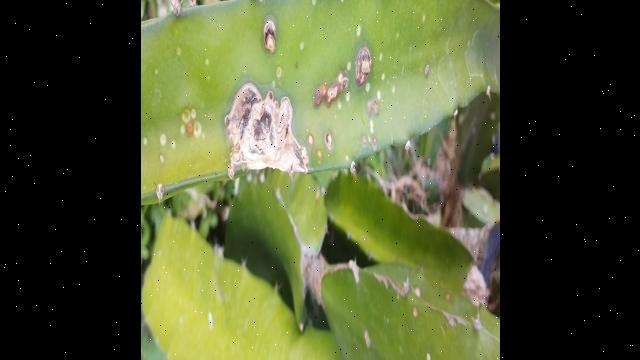stemcanker: (180, 106, 204, 138), (306, 89, 326, 109), (322, 127, 336, 153), (367, 95, 382, 118), (336, 71, 352, 91), (327, 84, 340, 104)
